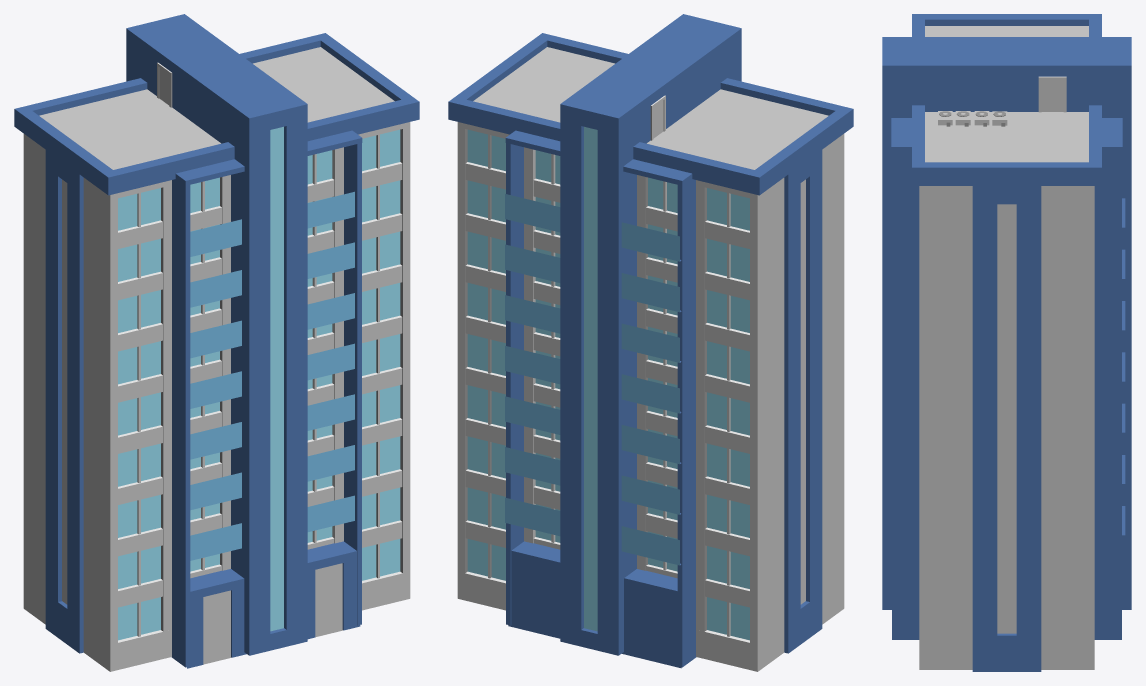
Rendered from Apartment_3.fbx.
The picture shows the model from 3 angles, left to right: view 1: azimuth 30°, elevation 25°; view 2: azimuth 150°, elevation 25°; view 3: azimuth 270°, elevation 25°; orthographic projection.
Visible parts, largest first — view 1: Apartment_3; view 2: Apartment_3; view 3: Apartment_3.
Part boxes in pixels (left/top/right/bottom): Apartment_3: left=14, top=14, right=419, bottom=671; Apartment_3: left=448, top=14, right=853, bottom=671; Apartment_3: left=882, top=14, right=1131, bottom=671.
Size of the model in its own units: 6.95 by 11.55 by 4.77.
